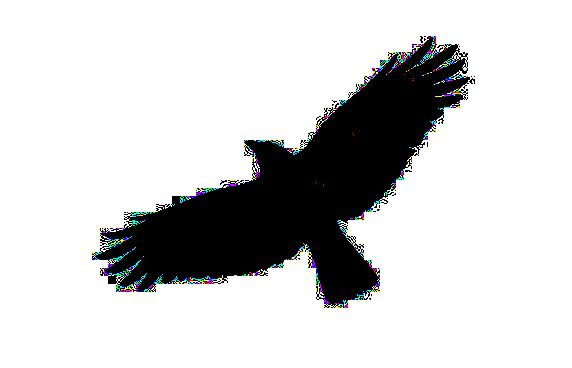Bird: (88, 32, 476, 312)
